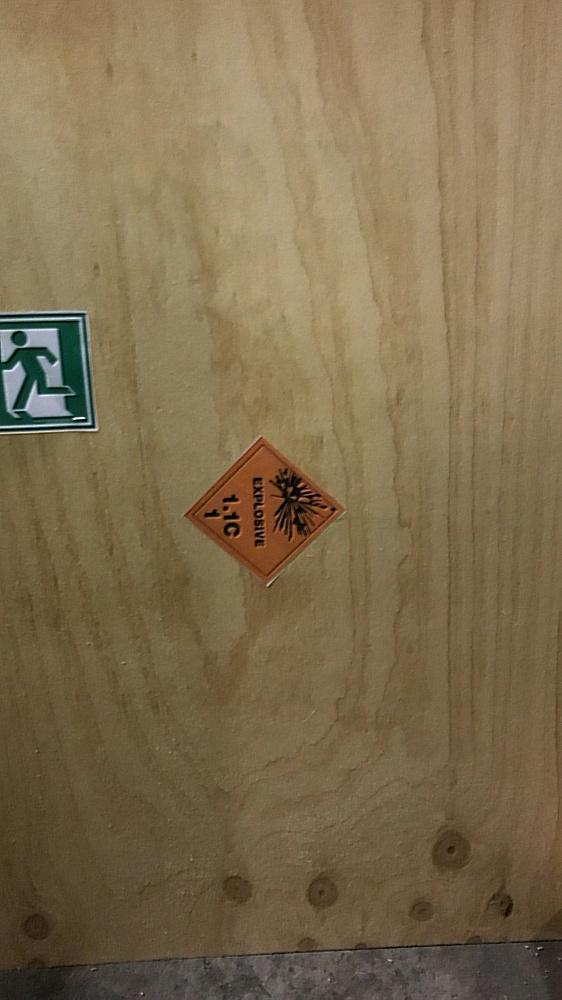explosive: (185, 438, 338, 586)
